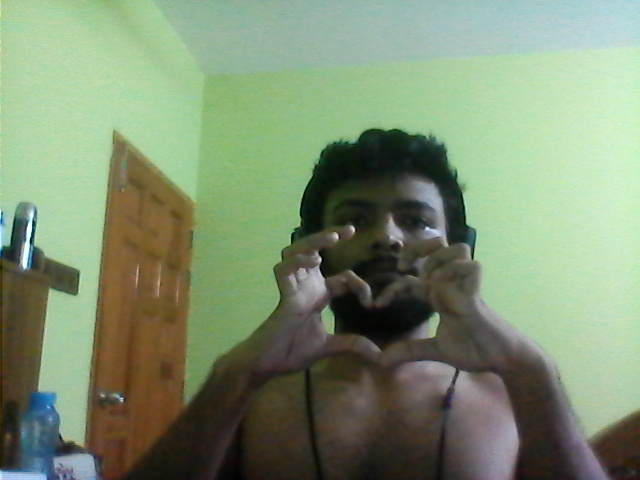Love: (232, 222, 539, 383)
